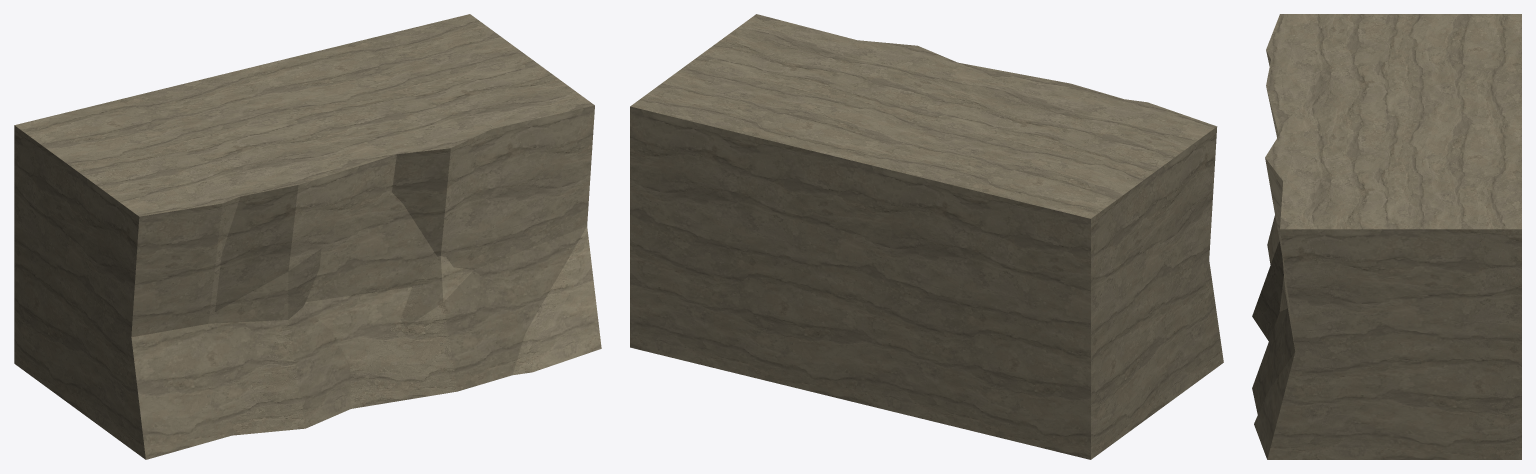
The model's file is env_cliff_straight_a_v001.glb.
The picture shows the model from 3 angles, left to right: view 1: azimuth 30°, elevation 25°; view 2: azimuth 150°, elevation 25°; view 3: azimuth 270°, elevation 25°; orthographic projection. The views are drawn at different scales.
Parts seen in each view (by area): view 1: env_cliff_straight_a_LOD0_mesh, env_cliff_straight_a_LOD2_mesh; view 2: env_cliff_straight_a_LOD0_mesh, env_cliff_straight_a_LOD2_mesh; view 3: env_cliff_straight_a_LOD0_mesh, env_cliff_straight_a_LOD2_mesh.
Boxes of the visible parts, <box> form: env_cliff_straight_a_LOD0_mesh: <box>14,14,601,459</box>; env_cliff_straight_a_LOD2_mesh: <box>14,15,594,459</box>; env_cliff_straight_a_LOD0_mesh: <box>630,14,1223,459</box>; env_cliff_straight_a_LOD2_mesh: <box>632,14,1216,217</box>; env_cliff_straight_a_LOD0_mesh: <box>1252,14,1521,459</box>; env_cliff_straight_a_LOD2_mesh: <box>1252,14,1521,414</box>.
Bounding box in the file's own units: 4 × 2 × 2.12.
Materials: 3 (3 with a texture image).
